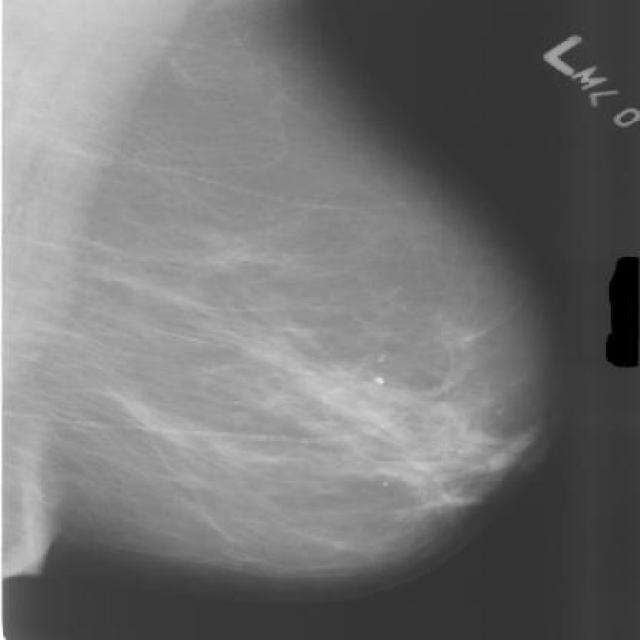tumor: (236, 292, 534, 516)
